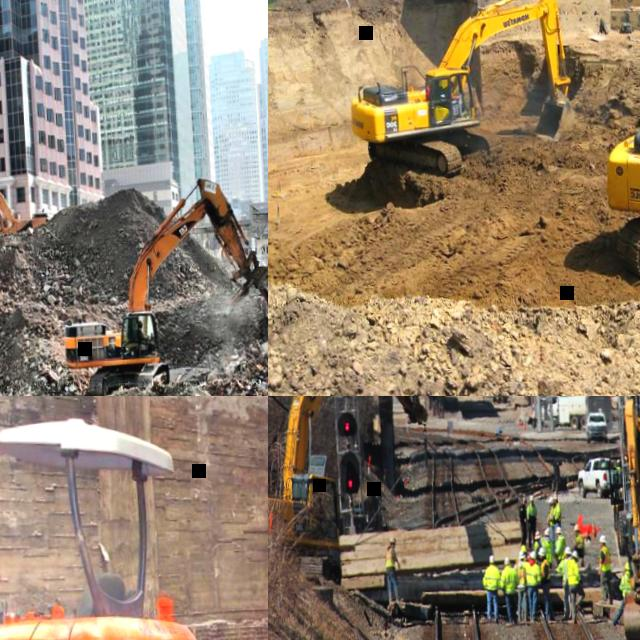Hardhat: (534, 529, 542, 538), (537, 545, 545, 554), (600, 533, 608, 542), (625, 558, 631, 569), (489, 553, 496, 562), (565, 545, 572, 554), (504, 556, 511, 564), (530, 550, 537, 558), (555, 525, 562, 533), (573, 549, 580, 557), (548, 496, 555, 503), (544, 528, 550, 535), (521, 549, 527, 556), (554, 491, 560, 498), (574, 522, 580, 529), (390, 536, 396, 542), (529, 494, 535, 500), (617, 458, 622, 463), (523, 496, 528, 501)
NO-Hardhat: (139, 319, 144, 325)
NO-Safety Vest: (520, 502, 527, 520)
Person: (604, 557, 635, 625), (566, 544, 587, 622), (554, 545, 575, 619), (500, 556, 522, 625), (524, 550, 544, 622), (538, 545, 556, 622), (482, 553, 502, 622), (595, 532, 614, 603), (384, 536, 404, 603), (514, 552, 531, 625), (573, 520, 592, 565), (526, 493, 539, 548), (517, 495, 530, 548), (554, 525, 567, 564), (543, 527, 555, 566), (553, 490, 563, 525), (546, 495, 556, 528), (533, 529, 544, 551), (137, 318, 148, 339), (616, 457, 623, 476), (451, 80, 456, 100), (520, 542, 528, 553)
Safety Cone: (591, 519, 597, 537), (522, 414, 527, 430), (520, 404, 524, 422), (517, 412, 521, 424)
Safety Vest: (500, 564, 520, 592), (482, 564, 501, 589), (524, 558, 541, 585), (557, 556, 572, 585), (568, 557, 583, 584), (515, 559, 528, 587), (619, 569, 633, 595), (599, 543, 612, 571), (555, 533, 567, 559), (543, 536, 554, 563), (385, 546, 396, 569), (540, 556, 551, 579), (526, 501, 538, 522), (546, 504, 556, 525), (575, 531, 585, 548), (553, 502, 562, 520), (534, 539, 541, 549), (617, 464, 623, 474)
vehicle: (0, 412, 218, 640), (55, 168, 268, 396), (343, 0, 577, 181), (268, 396, 435, 586), (610, 396, 640, 640), (0, 162, 51, 271), (541, 396, 613, 431), (577, 453, 623, 498), (584, 410, 611, 441)
